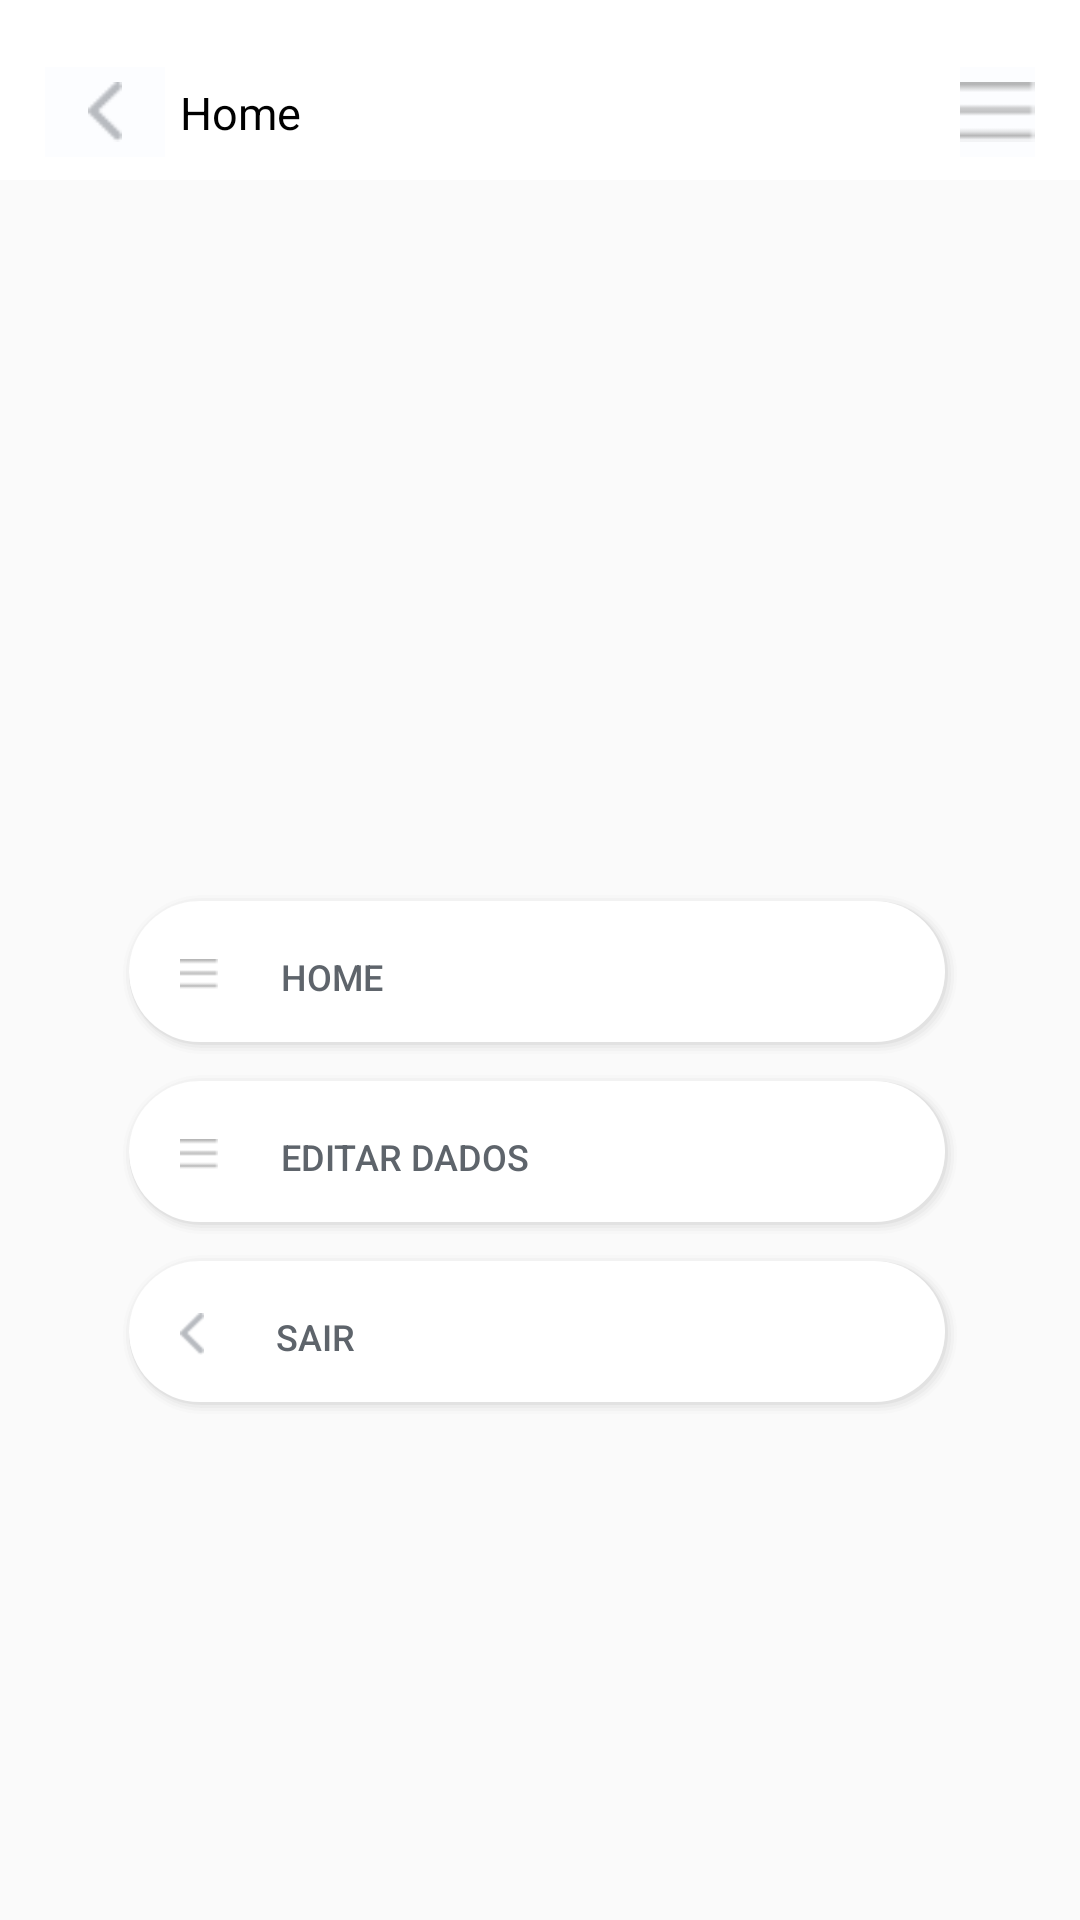

Where icons sit on this 1080 × 1920 app screen, as bbox=[x1, y1, x2, y2]:
arrow back: bbox=[88, 82, 122, 140]
menu: bbox=[960, 82, 1035, 139]
